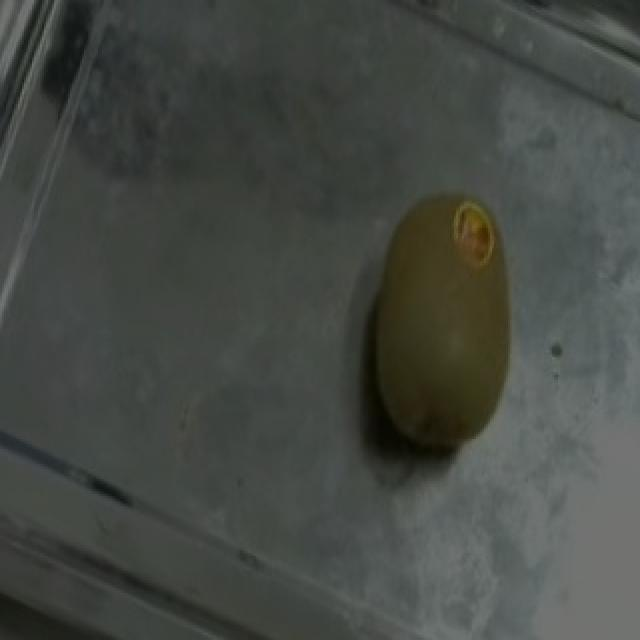Fruit: (314, 166, 564, 486)
